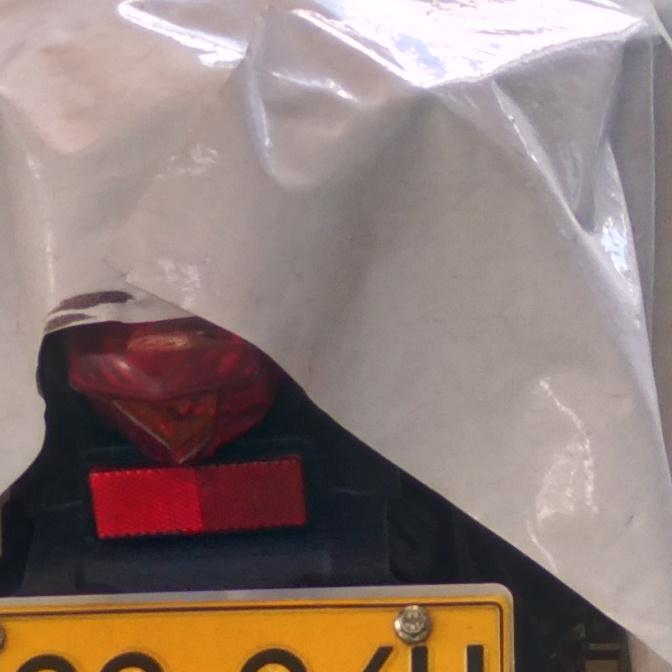plates: (0, 595, 511, 672)
